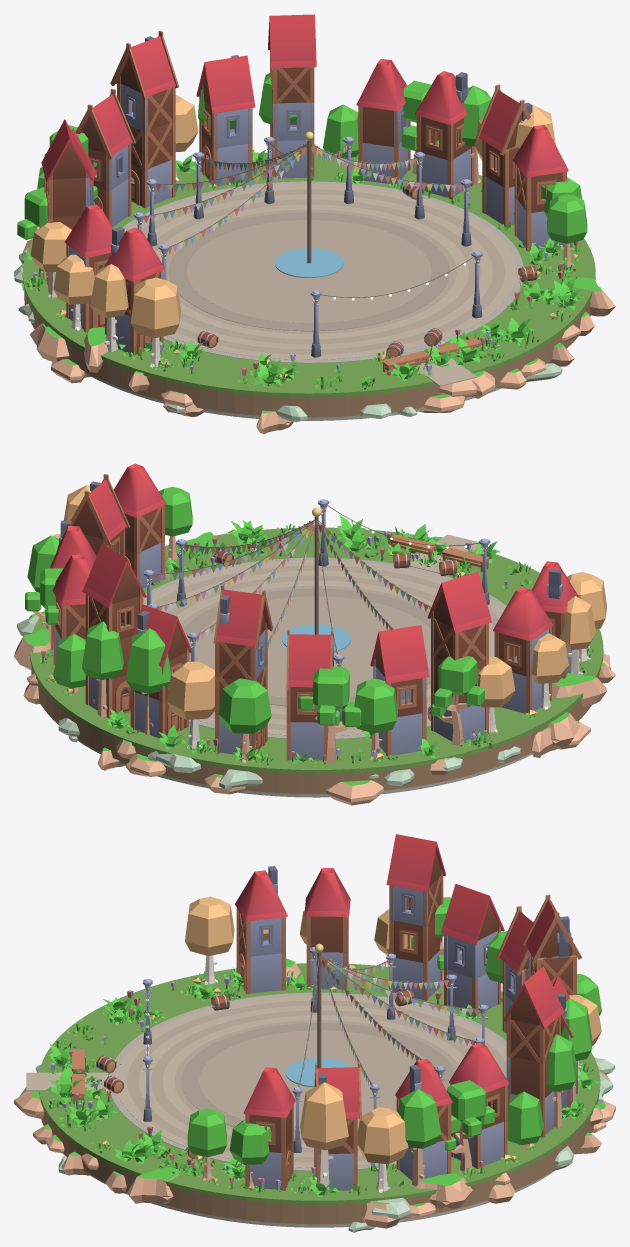
File: market.glb
The picture shows the model from 3 angles, top to bottom: view 1: azimuth 30°, elevation 25°; view 2: azimuth 150°, elevation 25°; view 3: azimuth 270°, elevation 25°; orthographic projection. The views are drawn at different scales.
Parts seen in each view (by area): view 1: flat-grass, flat-cobble.017, cyl, flat-ring, flat-cobble, flat-cobble.004, flat-cobble.003, flat-cobble.001, flat-cobble.002, flat-kerb, tree_oak_fall.001, roof-high-gable-detail.002 (+62 smaller); view 2: flat-grass, flat-cobble.017, cyl, tree_detailed.002, tree_oak_fall.004, tree_detailed.001, roof-high-gable.002, tree_oak.004, roof-high-gable.001, roof-high-gable-detail.002, tree_default.001, roof-high-gable.004 (+64 smaller); view 3: flat-grass, flat-cobble.017, cyl, flat-ring, flat-cobble, flat-cobble.001, tree_default_fall.001, flat-cobble.003, flat-cobble.002, flat-cobble.004, tree_oak_fall.001, tree_oak_fall.005 (+58 smaller).
Boxes of the visible parts, x1,y1,x2,y2 form: flat-grass: (22,151,595,397); flat-cobble.017: (187,220,431,323); cyl: (24,290,590,417); flat-ring: (168,212,449,331); flat-cobble: (124,184,516,359); flat-cobble.004: (156,204,468,339); flat-cobble.003: (152,199,480,344); flat-cobble.001: (141,189,504,354); flat-cobble.002: (146,194,492,349); flat-kerb: (122,181,523,363); tree_oak_fall.001: (130,277,181,367); roof-high-gable-detail.002: (110,30,179,100); flat-grass: (30,527,603,774); flat-cobble.017: (195,596,430,697); cyl: (31,667,599,793); tree_detailed.002: (298,666,361,763); tree_oak_fall.004: (167,661,214,748); tree_detailed.001: (431,656,484,745); roof-high-gable.002: (370,625,429,683); tree_oak.004: (218,678,271,762); roof-high-gable.001: (427,571,491,633); roof-high-gable-detail.002: (213,584,272,649); tree_default.001: (126,628,172,735); roof-high-gable.004: (82,543,146,607); flat-grass: (38,963,600,1204); flat-cobble.017: (199,1030,433,1130); cyl: (41,1103,597,1224); flat-ring: (181,1023,454,1139); flat-cobble: (116,995,506,1167); flat-cobble.001: (127,1000,506,1162); tree_default_fall.001: (300,1082,348,1192); flat-cobble.003: (151,1010,468,1152); flat-cobble.002: (139,1005,475,1157); flat-cobble.004: (162,1015,464,1147); tree_oak_fall.001: (185,896,234,984); tree_oak_fall.005: (357,1107,408,1192).
Size of the model in its own units: 71.91 by 35.61 by 72.85.
63 materials, 13 textured.
